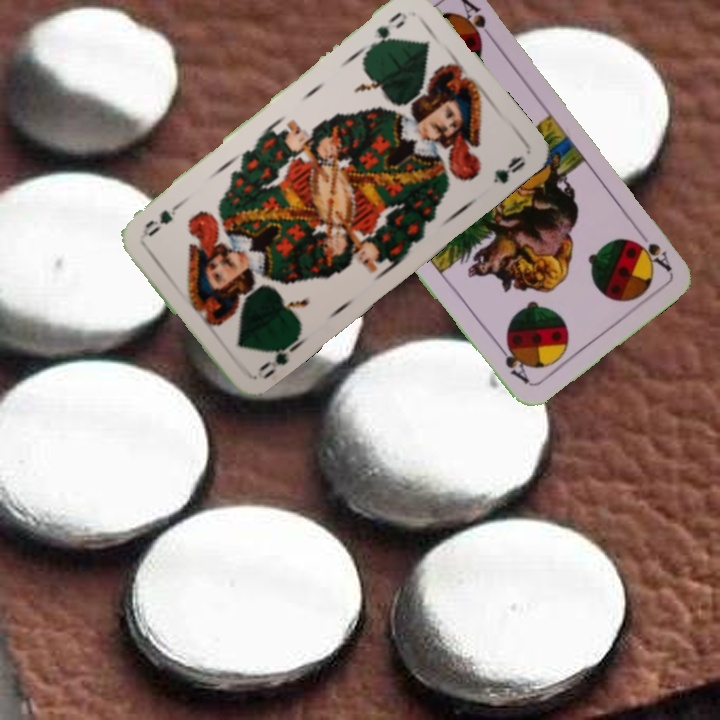GO: (253, 332, 305, 382), (364, 8, 410, 54)
SA: (631, 223, 674, 274)
